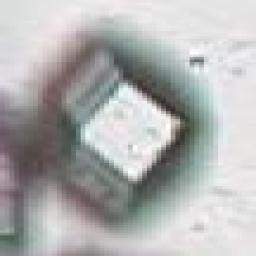crystals: (38, 36, 204, 233)
